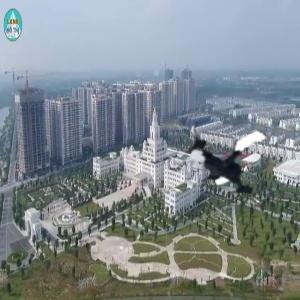drone: (180, 112, 283, 215)
